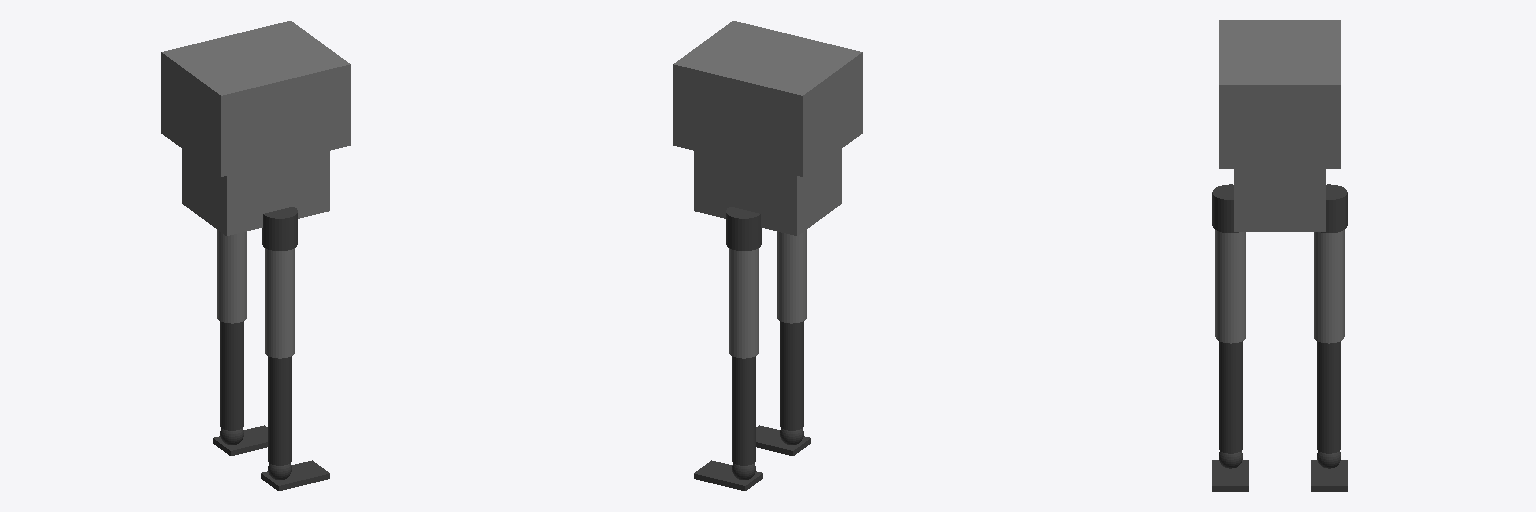
robot.urdf — atst_walker:
<?xml version="1.0" encoding="UTF-8"?>
<!--
AT-ST Walker URDF for Isaac Sim
Based on Star Wars AT-ST specifications
-->
<robot name="atst_walker">

  <!-- ============================================================ -->
  <!-- Materials -->
  <!-- ============================================================ -->
  <material name="gray">
    <color rgba="0.5 0.5 0.5 1"/>
  </material>
  <material name="dark_gray">
    <color rgba="0.3 0.3 0.3 1"/>
  </material>

  <!-- ============================================================ -->
  <!-- Body (Base Link) -->
  <!-- ============================================================ -->
  <link name="body">
    <visual>
      <origin xyz="0 0 0" rpy="0 0 0"/>
      <geometry>
        <box size="2.0 1.5 1.5"/>
      </geometry>
      <material name="gray"/>
    </visual>
    <collision>
      <origin xyz="0 0 0" rpy="0 0 0"/>
      <geometry>
        <box size="2.0 1.5 1.5"/>
      </geometry>
    </collision>
    <inertial>
      <origin xyz="0 0 0" rpy="0 0 0"/>
      <mass value="4000"/>
      <inertia ixx="1500" ixy="0" ixz="0" iyy="2000" iyz="0" izz="1500"/>
    </inertial>
  </link>

  <!-- ============================================================ -->
  <!-- Head/Cockpit -->
  <!-- ============================================================ -->
  <link name="head">
    <visual>
      <origin xyz="0 0 0.5" rpy="0 0 0"/>
      <geometry>
        <box size="2.5 2.0 1.5"/>
      </geometry>
      <material name="gray"/>
    </visual>
    <collision>
      <origin xyz="0 0 0.5" rpy="0 0 0"/>
      <geometry>
        <box size="2.5 2.0 1.5"/>
      </geometry>
    </collision>
    <inertial>
      <origin xyz="0 0 0.5" rpy="0 0 0"/>
      <mass value="1500"/>
      <inertia ixx="800" ixy="0" ixz="0" iyy="1000" iyz="0" izz="800"/>
    </inertial>
  </link>

  <joint name="head_joint" type="fixed">
    <parent link="body"/>
    <child link="head"/>
    <origin xyz="0 0 0.75" rpy="0 0 0"/>
  </joint>

  <!-- ============================================================ -->
  <!-- LEFT LEG -->
  <!-- ============================================================ -->

  <!-- Left Hip -->
  <link name="hip_L">
    <visual>
      <origin xyz="0 0 -0.3" rpy="0 0 0"/>
      <geometry>
        <cylinder radius="0.3" length="0.6"/>
      </geometry>
      <material name="dark_gray"/>
    </visual>
    <collision>
      <origin xyz="0 0 -0.3" rpy="0 0 0"/>
      <geometry>
        <cylinder radius="0.3" length="0.6"/>
      </geometry>
    </collision>
    <inertial>
      <origin xyz="0 0 -0.3" rpy="0 0 0"/>
      <mass value="500"/>
      <inertia ixx="50" ixy="0" ixz="0" iyy="50" iyz="0" izz="30"/>
    </inertial>
  </link>

  <joint name="hip_yaw_L" type="revolute">
    <parent link="body"/>
    <child link="hip_L"/>
    <origin xyz="0 0.8 -0.5" rpy="0 0 0"/>
    <axis xyz="0 0 1"/>
    <limit lower="-0.5" upper="0.5" effort="500000" velocity="2.0"/>
    <dynamics damping="10000" friction="1000"/>
  </joint>

  <!-- Left Thigh -->
  <link name="thigh_L">
    <visual>
      <origin xyz="0 0 -1.0" rpy="0 0 0"/>
      <geometry>
        <cylinder radius="0.25" length="2.0"/>
      </geometry>
      <material name="gray"/>
    </visual>
    <collision>
      <origin xyz="0 0 -1.0" rpy="0 0 0"/>
      <geometry>
        <cylinder radius="0.25" length="2.0"/>
      </geometry>
    </collision>
    <inertial>
      <origin xyz="0 0 -1.0" rpy="0 0 0"/>
      <mass value="800"/>
      <inertia ixx="300" ixy="0" ixz="0" iyy="300" iyz="0" izz="30"/>
    </inertial>
  </link>

  <joint name="hip_pitch_L" type="revolute">
    <parent link="hip_L"/>
    <child link="thigh_L"/>
    <origin xyz="0 0 -0.6" rpy="0 0 0"/>
    <axis xyz="0 1 0"/>
    <limit lower="-1.0" upper="0.5" effort="800000" velocity="2.0"/>
    <dynamics damping="20000" friction="2000"/>
  </joint>

  <!-- Left Shin -->
  <link name="shin_L">
    <visual>
      <origin xyz="0 0 -1.0" rpy="0 0 0"/>
      <geometry>
        <cylinder radius="0.2" length="2.0"/>
      </geometry>
      <material name="dark_gray"/>
    </visual>
    <collision>
      <origin xyz="0 0 -1.0" rpy="0 0 0"/>
      <geometry>
        <cylinder radius="0.2" length="2.0"/>
      </geometry>
    </collision>
    <inertial>
      <origin xyz="0 0 -1.0" rpy="0 0 0"/>
      <mass value="600"/>
      <inertia ixx="220" ixy="0" ixz="0" iyy="220" iyz="0" izz="20"/>
    </inertial>
  </link>

  <joint name="knee_L" type="revolute">
    <parent link="thigh_L"/>
    <child link="shin_L"/>
    <origin xyz="0 0 -2.0" rpy="0 0 0"/>
    <axis xyz="0 1 0"/>
    <limit lower="-0.2" upper="1.57" effort="600000" velocity="2.0"/>
    <dynamics damping="15000" friction="1500"/>
  </joint>

  <!-- Left Ankle -->
  <link name="ankle_L">
    <visual>
      <origin xyz="0 0 -0.15" rpy="0 0 0"/>
      <geometry>
        <sphere radius="0.2"/>
      </geometry>
      <material name="dark_gray"/>
    </visual>
    <collision>
      <origin xyz="0 0 -0.15" rpy="0 0 0"/>
      <geometry>
        <sphere radius="0.2"/>
      </geometry>
    </collision>
    <inertial>
      <origin xyz="0 0 -0.15" rpy="0 0 0"/>
      <mass value="200"/>
      <inertia ixx="10" ixy="0" ixz="0" iyy="10" iyz="0" izz="10"/>
    </inertial>
  </link>

  <joint name="ankle_L" type="revolute">
    <parent link="shin_L"/>
    <child link="ankle_L"/>
    <origin xyz="0 0 -2.0" rpy="0 0 0"/>
    <axis xyz="0 1 0"/>
    <limit lower="-0.5" upper="0.5" effort="400000" velocity="2.0"/>
    <dynamics damping="8000" friction="800"/>
  </joint>

  <!-- Left Foot -->
  <link name="foot_L">
    <visual>
      <origin xyz="0.3 0 -0.05" rpy="0 0 0"/>
      <geometry>
        <box size="1.0 0.6 0.1"/>
      </geometry>
      <material name="dark_gray"/>
    </visual>
    <collision>
      <origin xyz="0.3 0 -0.05" rpy="0 0 0"/>
      <geometry>
        <box size="1.0 0.6 0.1"/>
      </geometry>
    </collision>
    <inertial>
      <origin xyz="0.3 0 -0.05" rpy="0 0 0"/>
      <mass value="500"/>
      <inertia ixx="20" ixy="0" ixz="0" iyy="50" iyz="0" izz="50"/>
    </inertial>
  </link>

  <joint name="foot_L" type="revolute">
    <parent link="ankle_L"/>
    <child link="foot_L"/>
    <origin xyz="0 0 -0.3" rpy="0 0 0"/>
    <axis xyz="0 1 0"/>
    <limit lower="-0.35" upper="0.35" effort="200000" velocity="2.0"/>
    <dynamics damping="5000" friction="500"/>
  </joint>

  <!-- ============================================================ -->
  <!-- RIGHT LEG -->
  <!-- ============================================================ -->

  <!-- Right Hip -->
  <link name="hip_R">
    <visual>
      <origin xyz="0 0 -0.3" rpy="0 0 0"/>
      <geometry>
        <cylinder radius="0.3" length="0.6"/>
      </geometry>
      <material name="dark_gray"/>
    </visual>
    <collision>
      <origin xyz="0 0 -0.3" rpy="0 0 0"/>
      <geometry>
        <cylinder radius="0.3" length="0.6"/>
      </geometry>
    </collision>
    <inertial>
      <origin xyz="0 0 -0.3" rpy="0 0 0"/>
      <mass value="500"/>
      <inertia ixx="50" ixy="0" ixz="0" iyy="50" iyz="0" izz="30"/>
    </inertial>
  </link>

  <joint name="hip_yaw_R" type="revolute">
    <parent link="body"/>
    <child link="hip_R"/>
    <origin xyz="0 -0.8 -0.5" rpy="0 0 0"/>
    <axis xyz="0 0 1"/>
    <limit lower="-0.5" upper="0.5" effort="500000" velocity="2.0"/>
    <dynamics damping="10000" friction="1000"/>
  </joint>

  <!-- Right Thigh -->
  <link name="thigh_R">
    <visual>
      <origin xyz="0 0 -1.0" rpy="0 0 0"/>
      <geometry>
        <cylinder radius="0.25" length="2.0"/>
      </geometry>
      <material name="gray"/>
    </visual>
    <collision>
      <origin xyz="0 0 -1.0" rpy="0 0 0"/>
      <geometry>
        <cylinder radius="0.25" length="2.0"/>
      </geometry>
    </collision>
    <inertial>
      <origin xyz="0 0 -1.0" rpy="0 0 0"/>
      <mass value="800"/>
      <inertia ixx="300" ixy="0" ixz="0" iyy="300" iyz="0" izz="30"/>
    </inertial>
  </link>

  <joint name="hip_pitch_R" type="revolute">
    <parent link="hip_R"/>
    <child link="thigh_R"/>
    <origin xyz="0 0 -0.6" rpy="0 0 0"/>
    <axis xyz="0 1 0"/>
    <limit lower="-1.0" upper="0.5" effort="800000" velocity="2.0"/>
    <dynamics damping="20000" friction="2000"/>
  </joint>

  <!-- Right Shin -->
  <link name="shin_R">
    <visual>
      <origin xyz="0 0 -1.0" rpy="0 0 0"/>
      <geometry>
        <cylinder radius="0.2" length="2.0"/>
      </geometry>
      <material name="dark_gray"/>
    </visual>
    <collision>
      <origin xyz="0 0 -1.0" rpy="0 0 0"/>
      <geometry>
        <cylinder radius="0.2" length="2.0"/>
      </geometry>
    </collision>
    <inertial>
      <origin xyz="0 0 -1.0" rpy="0 0 0"/>
      <mass value="600"/>
      <inertia ixx="220" ixy="0" ixz="0" iyy="220" iyz="0" izz="20"/>
    </inertial>
  </link>

  <joint name="knee_R" type="revolute">
    <parent link="thigh_R"/>
    <child link="shin_R"/>
    <origin xyz="0 0 -2.0" rpy="0 0 0"/>
    <axis xyz="0 1 0"/>
    <limit lower="-0.2" upper="1.57" effort="600000" velocity="2.0"/>
    <dynamics damping="15000" friction="1500"/>
  </joint>

  <!-- Right Ankle -->
  <link name="ankle_R">
    <visual>
      <origin xyz="0 0 -0.15" rpy="0 0 0"/>
      <geometry>
        <sphere radius="0.2"/>
      </geometry>
      <material name="dark_gray"/>
    </visual>
    <collision>
      <origin xyz="0 0 -0.15" rpy="0 0 0"/>
      <geometry>
        <sphere radius="0.2"/>
      </geometry>
    </collision>
    <inertial>
      <origin xyz="0 0 -0.15" rpy="0 0 0"/>
      <mass value="200"/>
      <inertia ixx="10" ixy="0" ixz="0" iyy="10" iyz="0" izz="10"/>
    </inertial>
  </link>

  <joint name="ankle_R" type="revolute">
    <parent link="shin_R"/>
    <child link="ankle_R"/>
    <origin xyz="0 0 -2.0" rpy="0 0 0"/>
    <axis xyz="0 1 0"/>
    <limit lower="-0.5" upper="0.5" effort="400000" velocity="2.0"/>
    <dynamics damping="8000" friction="800"/>
  </joint>

  <!-- Right Foot -->
  <link name="foot_R">
    <visual>
      <origin xyz="0.3 0 -0.05" rpy="0 0 0"/>
      <geometry>
        <box size="1.0 0.6 0.1"/>
      </geometry>
      <material name="dark_gray"/>
    </visual>
    <collision>
      <origin xyz="0.3 0 -0.05" rpy="0 0 0"/>
      <geometry>
        <box size="1.0 0.6 0.1"/>
      </geometry>
    </collision>
    <inertial>
      <origin xyz="0.3 0 -0.05" rpy="0 0 0"/>
      <mass value="500"/>
      <inertia ixx="20" ixy="0" ixz="0" iyy="50" iyz="0" izz="50"/>
    </inertial>
  </link>

  <joint name="foot_R" type="revolute">
    <parent link="ankle_R"/>
    <child link="foot_R"/>
    <origin xyz="0 0 -0.3" rpy="0 0 0"/>
    <axis xyz="0 1 0"/>
    <limit lower="-0.35" upper="0.35" effort="200000" velocity="2.0"/>
    <dynamics damping="5000" friction="500"/>
  </joint>

</robot>

--- What the picture shows (computed from the rendered views, not written in the file) ---
Views: 3 orthographic renders of the robot side by side, from view 1: azimuth 30°, elevation 25°; view 2: azimuth 150°, elevation 25°; view 3: azimuth 270°, elevation 25°.
Model atst_walker with 12 links and 11 joints (10 revolute, 1 fixed), rooted at body, posed every joint at zero.
Links seen in each view (by area): view 1: head, body, thigh_R, thigh_L, shin_L, shin_R, hip_R, foot_R, foot_L; view 2: head, body, thigh_L, thigh_R, shin_R, shin_L, hip_L, foot_L, foot_R; view 3: head, body, thigh_L, thigh_R, shin_L, shin_R, foot_L, foot_R, hip_L, hip_R.
Link boxes in pixels (left/top/right/bottom): head: left=161, top=21, right=350, bottom=176; body: left=182, top=149, right=329, bottom=235; thigh_R: left=265, top=248, right=294, bottom=358; thigh_L: left=217, top=230, right=246, bottom=323; shin_L: left=220, top=321, right=243, bottom=430; shin_R: left=268, top=356, right=291, bottom=465; hip_R: left=262, top=207, right=297, bottom=250; foot_R: left=261, top=460, right=329, bottom=490; foot_L: left=213, top=425, right=267, bottom=455; head: left=673, top=21, right=862, bottom=176; body: left=694, top=149, right=841, bottom=235; thigh_L: left=729, top=248, right=758, bottom=358; thigh_R: left=777, top=230, right=806, bottom=323; shin_R: left=780, top=321, right=803, bottom=430; shin_L: left=732, top=356, right=755, bottom=465; hip_L: left=726, top=207, right=761, bottom=250; foot_L: left=694, top=460, right=762, bottom=490; foot_R: left=756, top=425, right=810, bottom=455; head: left=1219, top=20, right=1340, bottom=168; body: left=1234, top=169, right=1325, bottom=231; thigh_L: left=1314, top=230, right=1344, bottom=343; thigh_R: left=1215, top=230, right=1245, bottom=343; shin_L: left=1317, top=341, right=1340, bottom=453; shin_R: left=1219, top=341, right=1242, bottom=453; foot_L: left=1311, top=460, right=1347, bottom=491; foot_R: left=1212, top=460, right=1248, bottom=491; hip_L: left=1321, top=184, right=1347, bottom=232; hip_R: left=1212, top=184, right=1238, bottom=232.
Bounding box of the posed robot: 2.5 × 2.2 × 7.5 m (x, y, z).
Geometry: primitives only (box / cylinder / sphere), no mesh files.